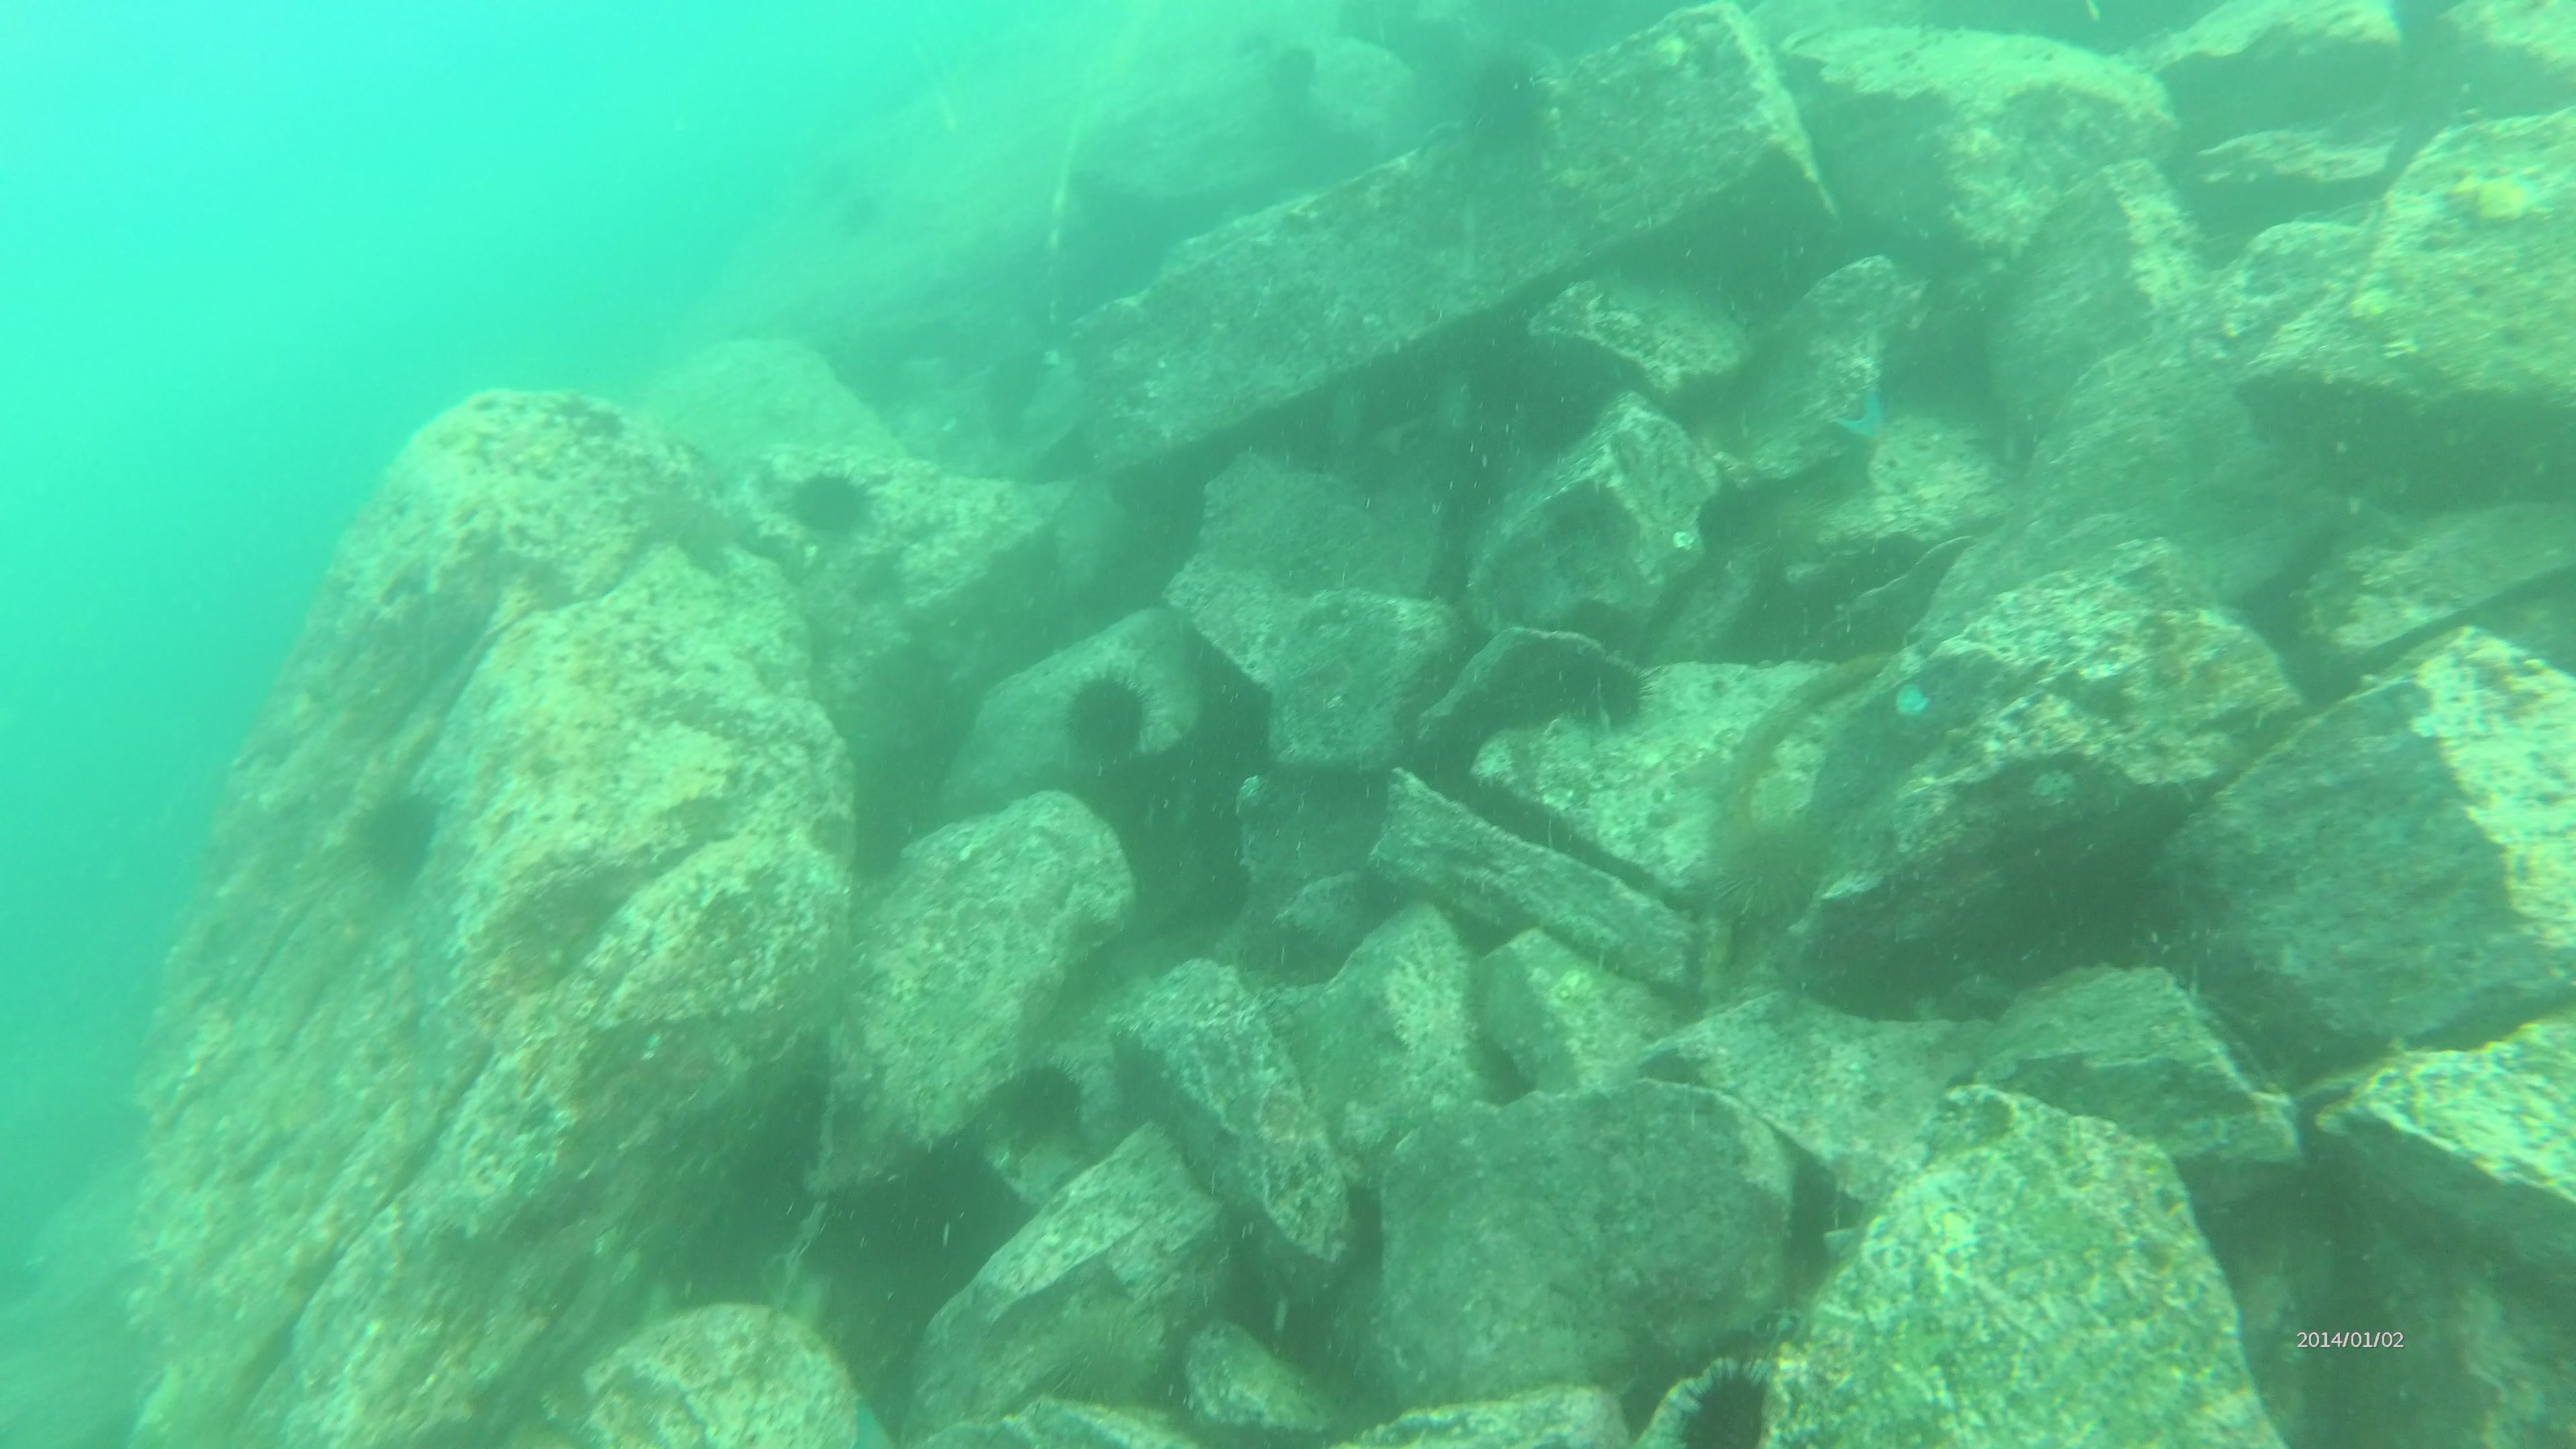echinus: (1665, 1336, 1787, 1449), (993, 1037, 1099, 1159), (1548, 635, 1674, 736), (347, 771, 456, 885), (1058, 655, 1155, 773), (787, 458, 879, 552)
